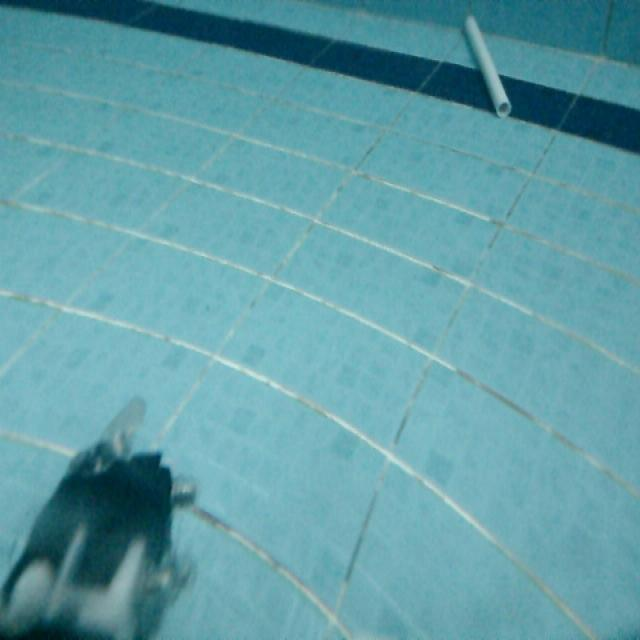Cube: (460, 9, 514, 120)
